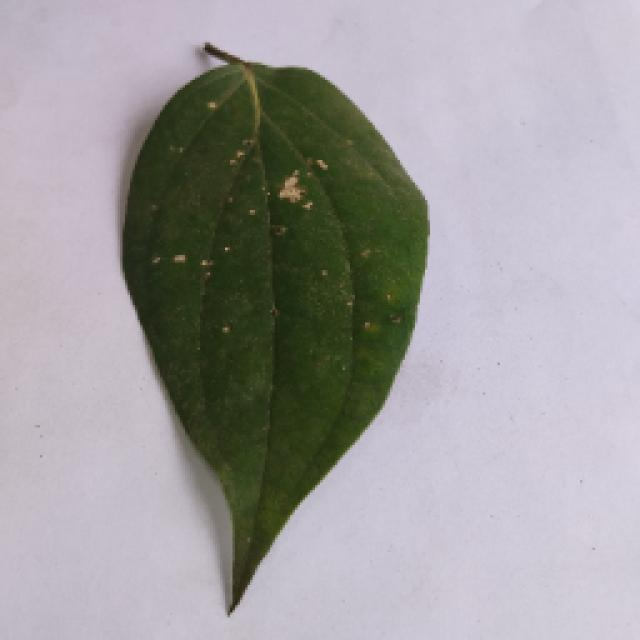pollu-disease: (107, 45, 435, 610)
